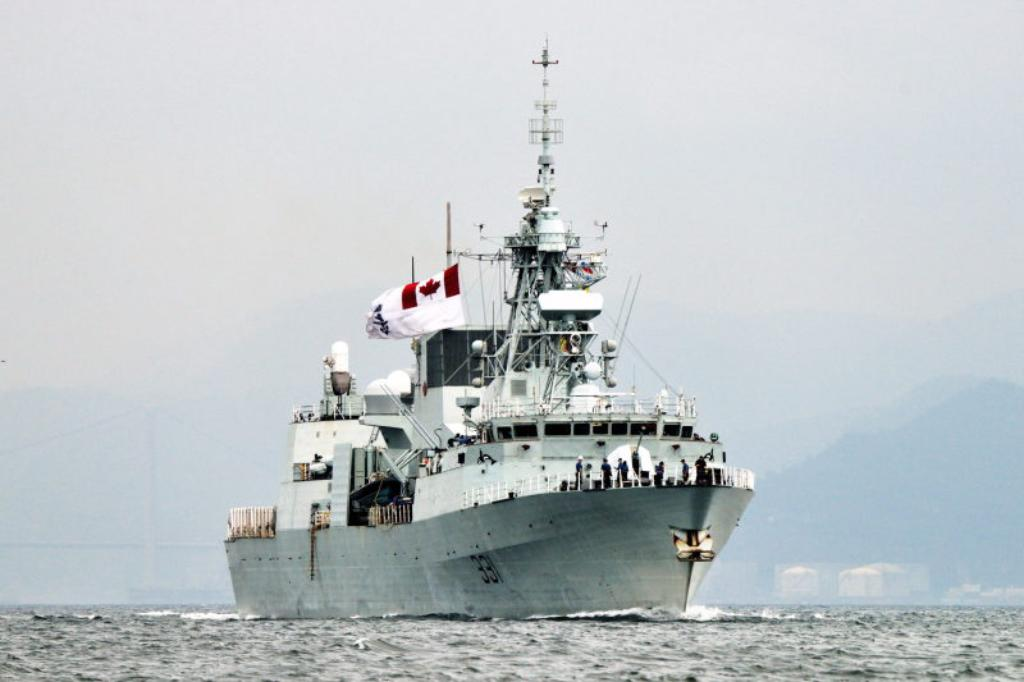Warship: (221, 10, 763, 634)
